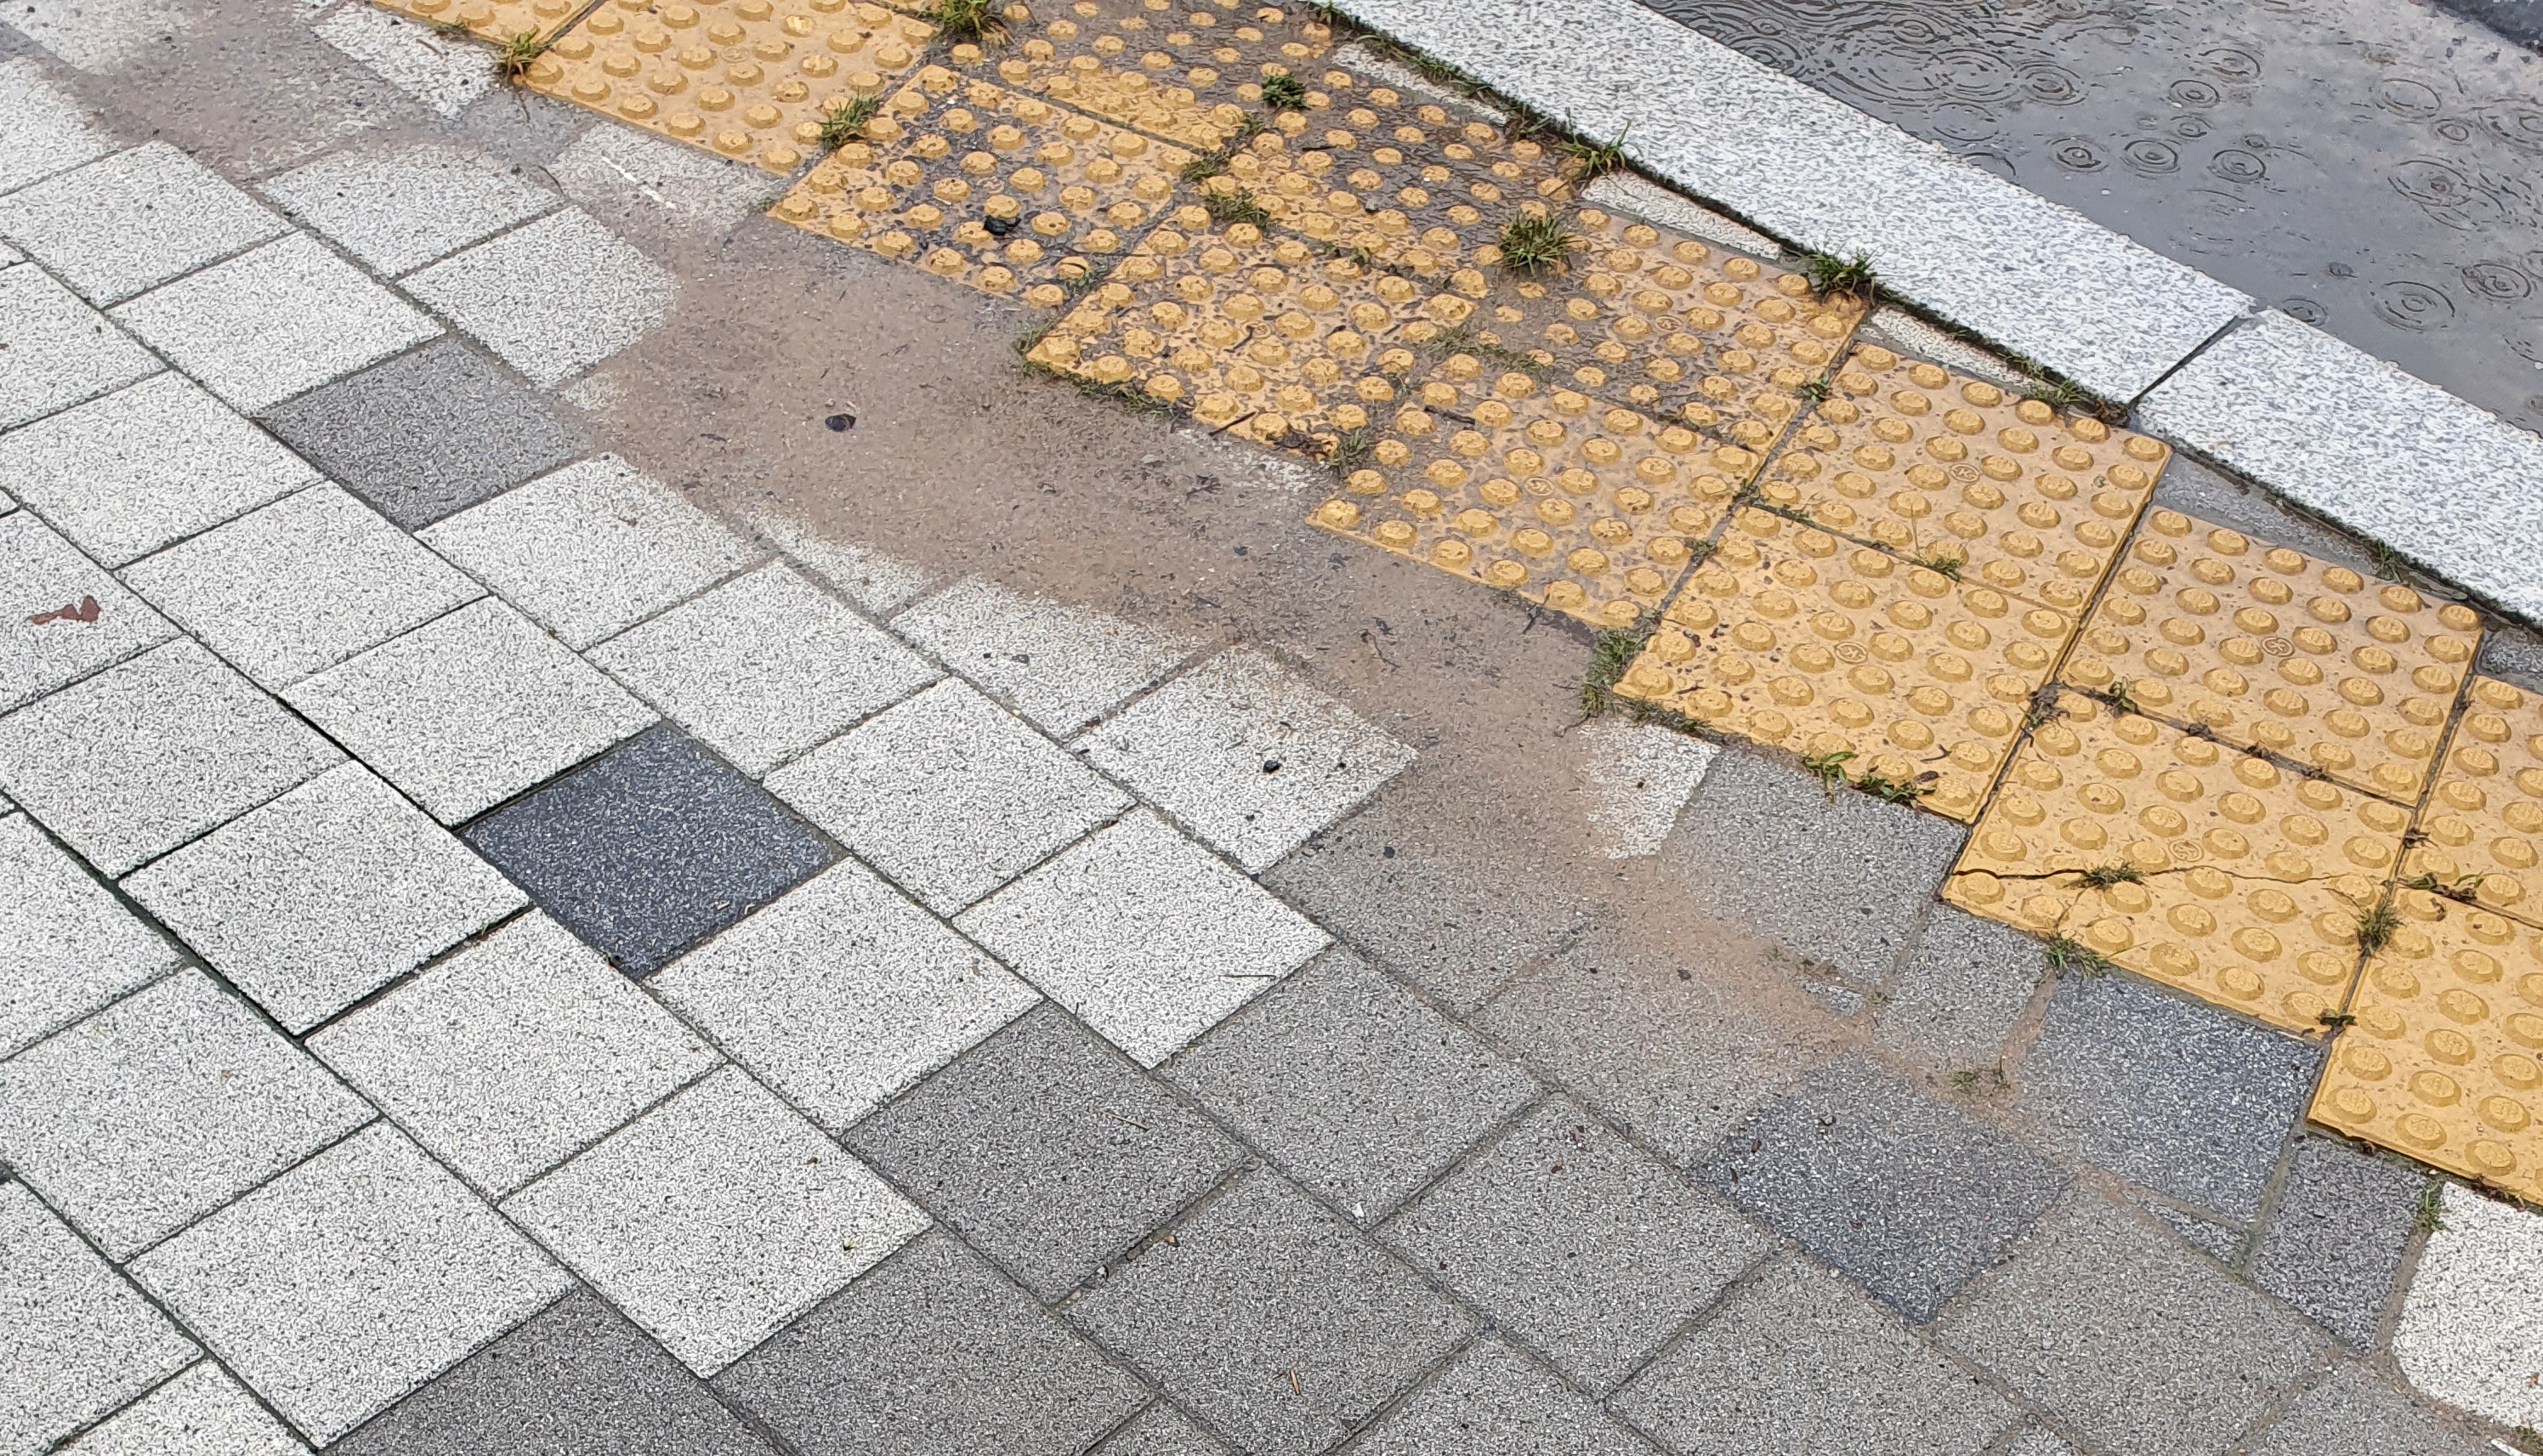warningBlock: (2026, 681, 2344, 1000), (1165, 220, 1511, 492), (1727, 517, 2028, 786), (2129, 499, 2412, 768), (886, 73, 1198, 295), (1415, 346, 1673, 592), (1540, 213, 1822, 428), (1265, 51, 1514, 269), (1867, 349, 2106, 567)
